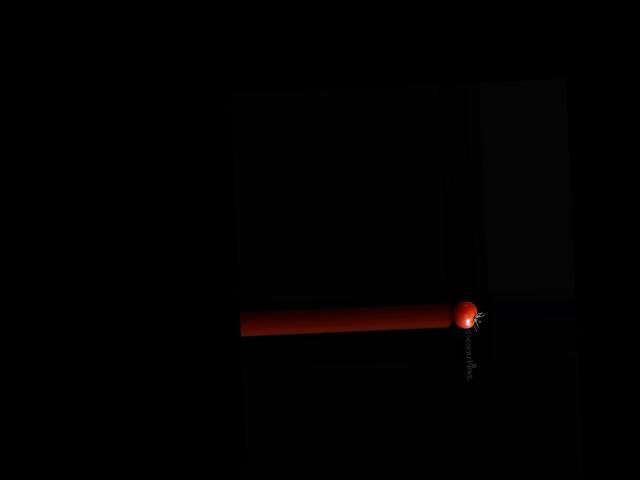tomato: (453, 301, 477, 329)
